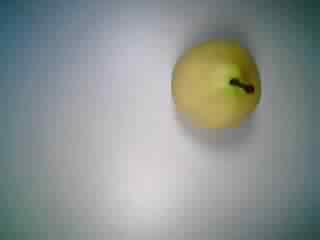pear: (162, 30, 273, 140)
